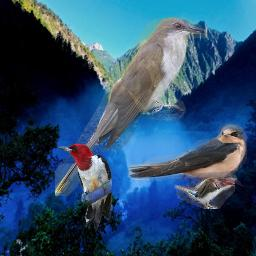Cuckoo: (55, 17, 208, 196)
Swallow: (127, 123, 247, 188), (174, 176, 235, 209)
Woodpecker: (57, 143, 112, 231)
